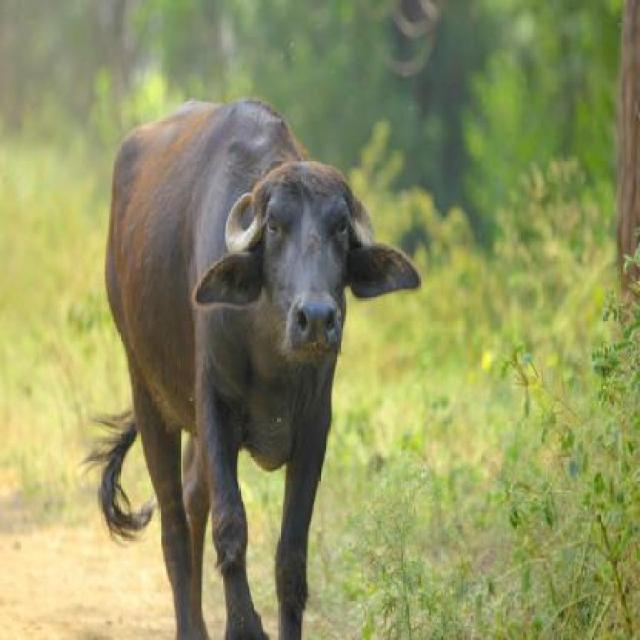buffalo: (82, 118, 383, 640)
